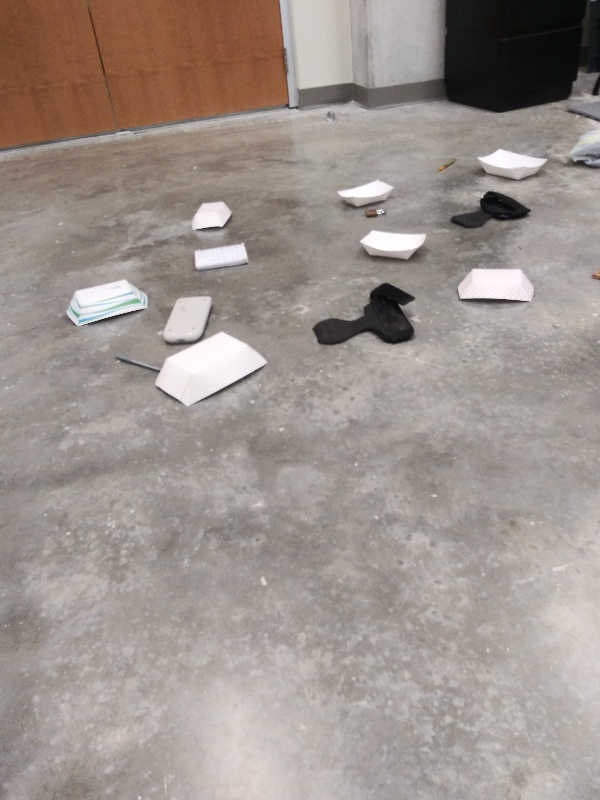plate: (149, 328, 271, 410), (62, 275, 154, 330), (452, 263, 538, 308), (470, 144, 557, 186), (357, 227, 432, 264), (333, 178, 400, 208), (186, 197, 234, 237)
